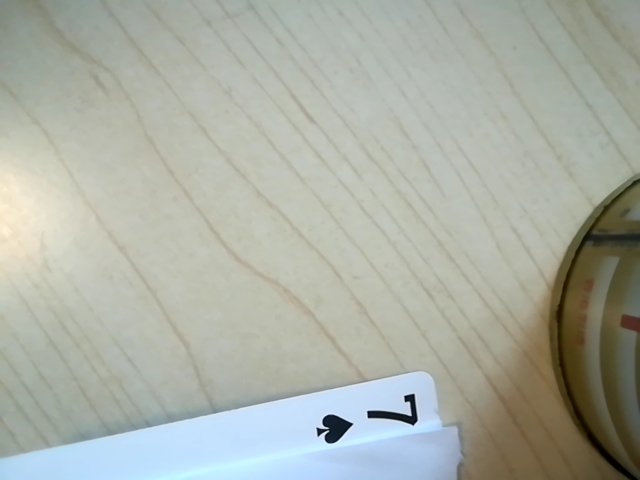ht 7: (297, 388, 443, 454)
